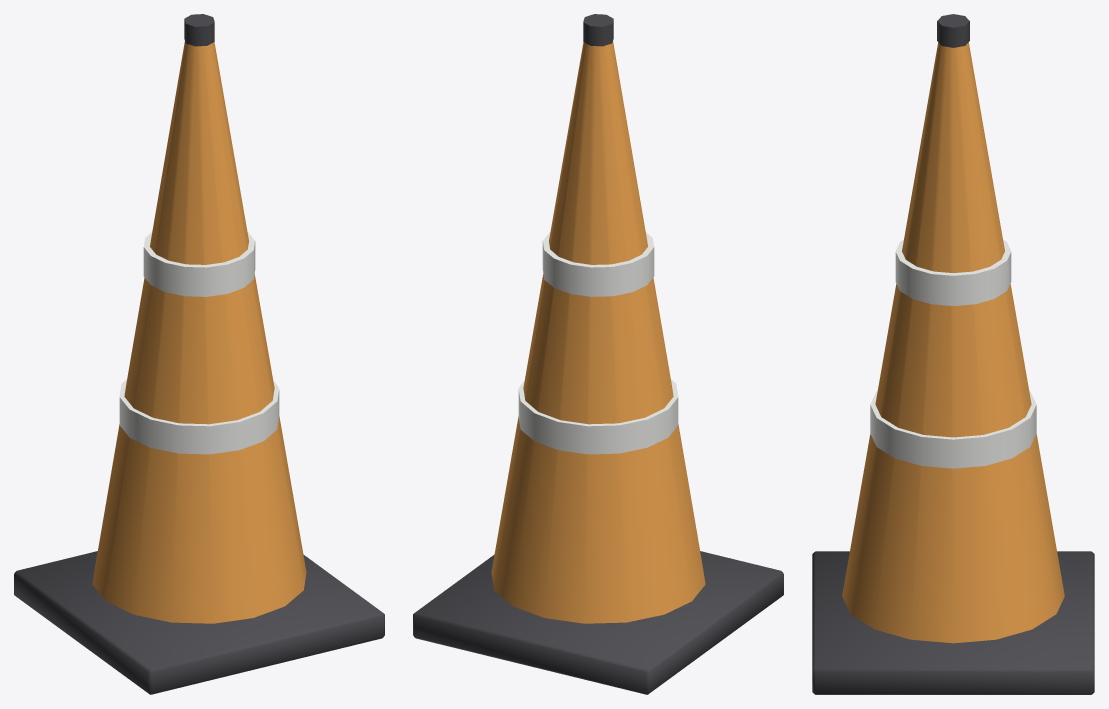
Rendered from TrafficCone_Tall.fbx.
3 renders of one model, left to right at view 1: azimuth 30°, elevation 25°; view 2: azimuth 150°, elevation 25°; view 3: azimuth 270°, elevation 25°, orthographic. The views are drawn at different scales.
Visible parts, largest first — view 1: LOD0; view 2: LOD0; view 3: LOD0.
Boxes of the visible parts, left/top/right/bottom form: LOD0: left=14, top=14, right=384, bottom=694; LOD0: left=413, top=14, right=783, bottom=694; LOD0: left=812, top=14, right=1094, bottom=694.
Size of what is drawn, in the model's own units: 38 by 91.5 by 38.
